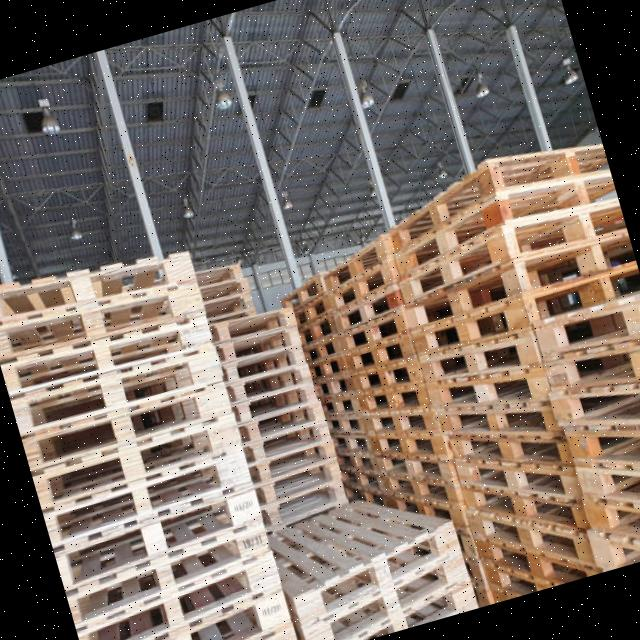Wooden-Pallets: (380, 137, 609, 264), (0, 228, 197, 349), (0, 261, 207, 369), (52, 488, 264, 592), (19, 374, 234, 474), (0, 303, 214, 401), (293, 523, 459, 630), (83, 598, 305, 640), (421, 322, 544, 393)
